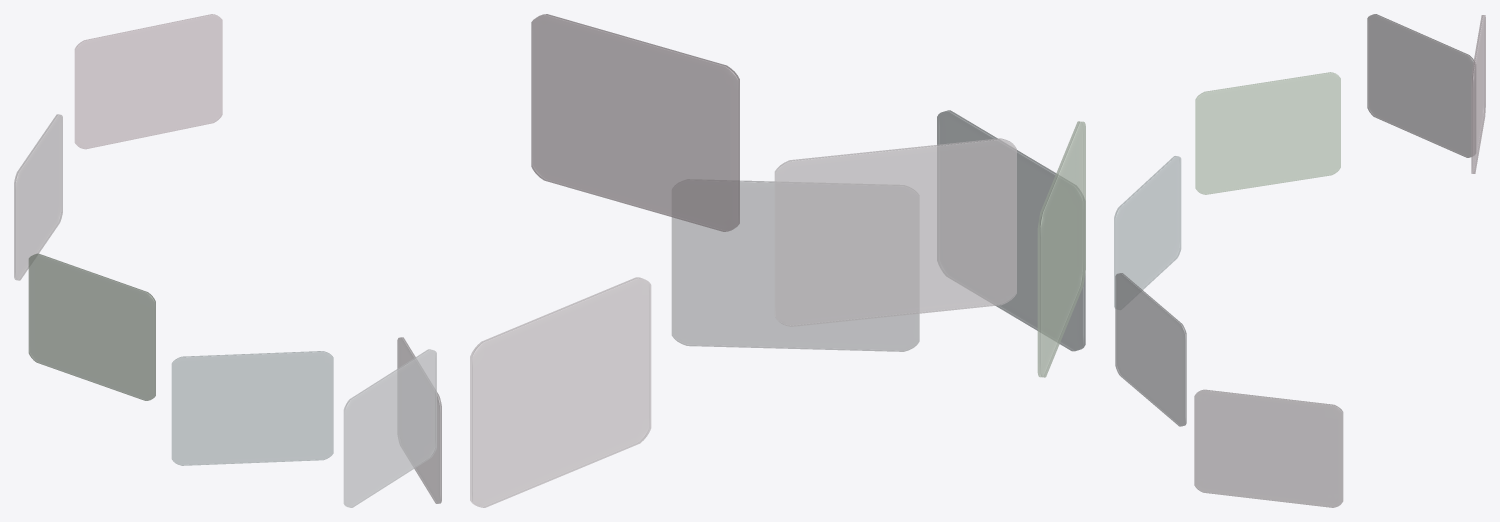
Rendered from plates.glb.
The picture shows the model from 3 angles, left to right: view 1: azimuth 30°, elevation 25°; view 2: azimuth 150°, elevation 25°; view 3: azimuth 270°, elevation 25°; orthographic projection. The views are drawn at different scales.
Visible parts, largest first — view 1: Cube.002, Cube.001, Cube.003, Cube.005, Cube.004, Cube.006; view 2: Cube.005, Cube.004, Cube.001, Cube.006, Cube.002, Cube.003; view 3: Cube.006, Cube.003, Cube.004, Cube.005, Cube.002, Cube.001.
Boxes of the visible parts, <box> form: Cube.002: <box>171,351,333,465</box>; Cube.001: <box>74,14,222,149</box>; Cube.003: <box>28,253,155,400</box>; Cube.005: <box>343,349,436,507</box>; Cube.004: <box>14,114,62,280</box>; Cube.006: <box>397,337,441,503</box>; Cube.005: <box>671,179,919,351</box>; Cube.004: <box>774,138,1016,326</box>; Cube.001: <box>531,14,739,231</box>; Cube.006: <box>470,277,651,507</box>; Cube.002: <box>937,110,1085,351</box>; Cube.003: <box>1037,121,1085,377</box>; Cube.006: <box>1194,389,1343,507</box>; Cube.003: <box>1195,72,1340,194</box>; Cube.004: <box>1367,14,1475,157</box>; Cube.005: <box>1115,273,1186,426</box>; Cube.002: <box>1114,156,1181,309</box>; Cube.001: <box>1471,15,1485,173</box>.
Bounding box in the file's own units: 4.56 × 4.71 × 4.15.
